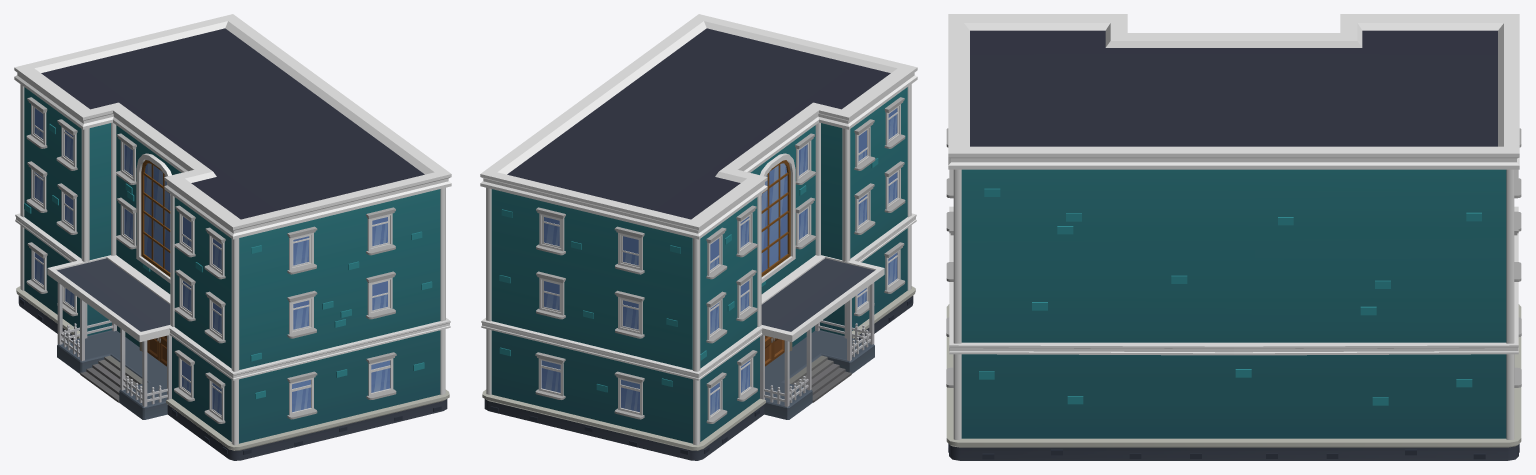
The model's file is Building_5_2_G.fbx.
The picture shows the model from 3 angles, left to right: view 1: azimuth 30°, elevation 25°; view 2: azimuth 150°, elevation 25°; view 3: azimuth 270°, elevation 25°; orthographic projection. The views are drawn at different scales.
Visible parts, largest first — view 1: Building_5_2_G; view 2: Building_5_2_G; view 3: Building_5_2_G.
Boxes of the visible parts, bbox=[...] form: Building_5_2_G: bbox=[14, 14, 451, 460]; Building_5_2_G: bbox=[480, 14, 917, 460]; Building_5_2_G: bbox=[946, 14, 1521, 460].
Bounding box in the file's own units: 1251 × 1126 × 1908.
